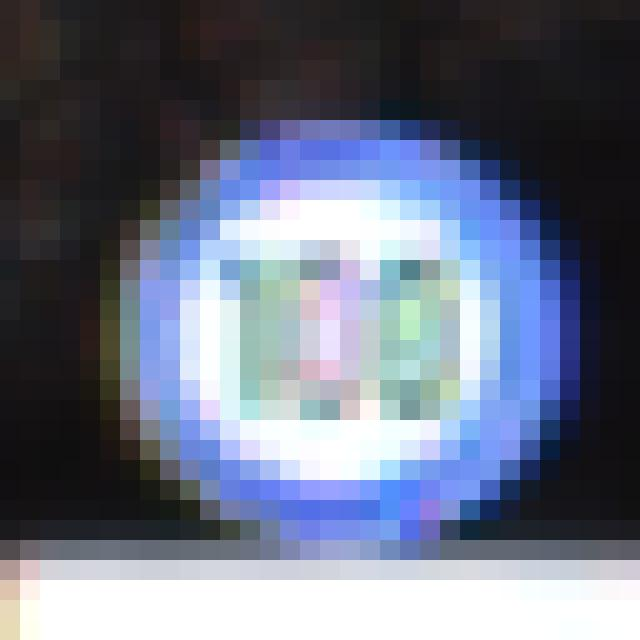SPEED LIMIT 100: (117, 125, 565, 540)
